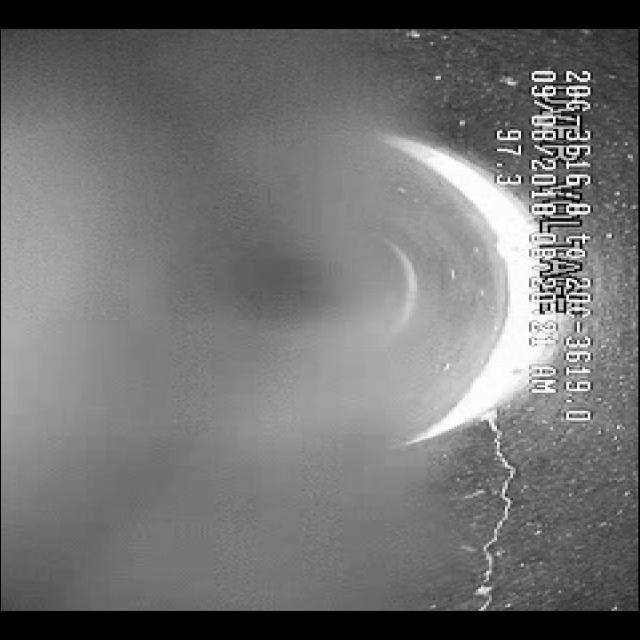Crack: (469, 421, 540, 580)
